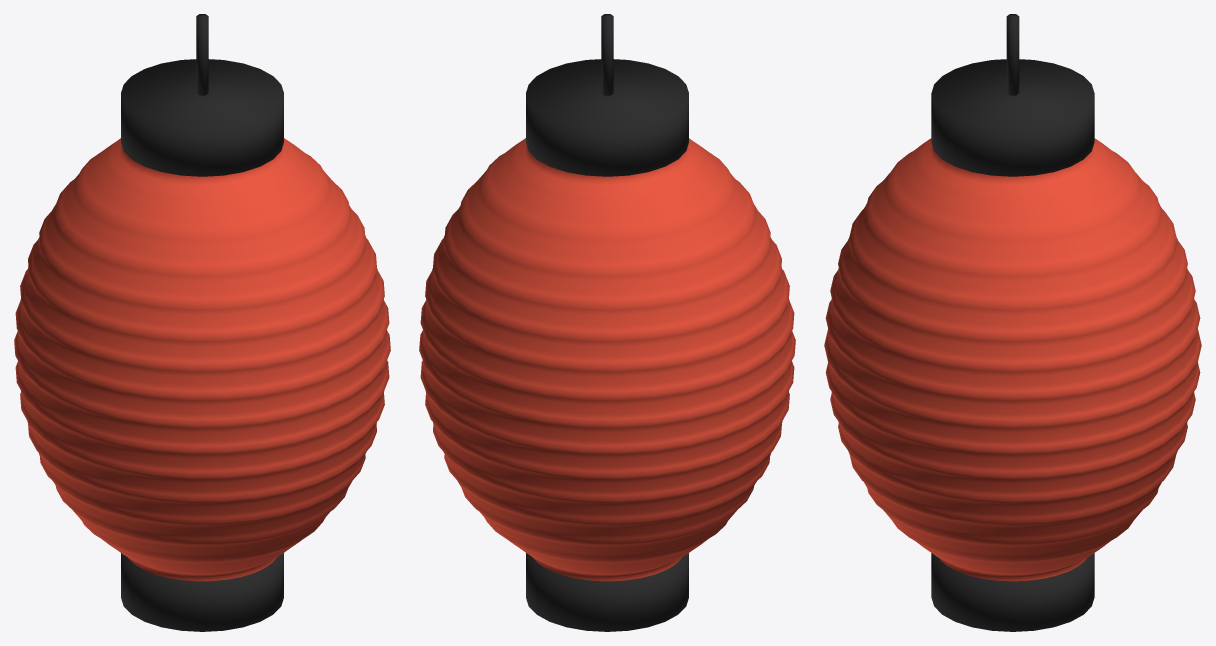
Rendered from chochin.glb.
The picture shows the model from 3 angles, left to right: view 1: azimuth 30°, elevation 25°; view 2: azimuth 150°, elevation 25°; view 3: azimuth 270°, elevation 25°; orthographic projection.
Parts seen in each view (by area): view 1: paper, caps; view 2: paper, caps; view 3: paper, caps.
Boxes of the visible parts, box(x1,y1,x2,y2) form: paper: box(14, 138, 390, 581); caps: box(121, 14, 283, 631); paper: box(419, 138, 795, 581); caps: box(526, 14, 688, 631); paper: box(824, 138, 1201, 581); caps: box(931, 14, 1094, 631).
Size of the model in its own units: 0.4886 by 0.83 by 0.4886.
